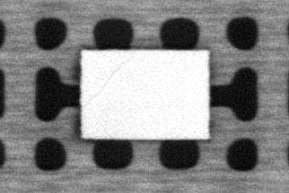DIE_CRACK: (84, 64, 121, 106)
